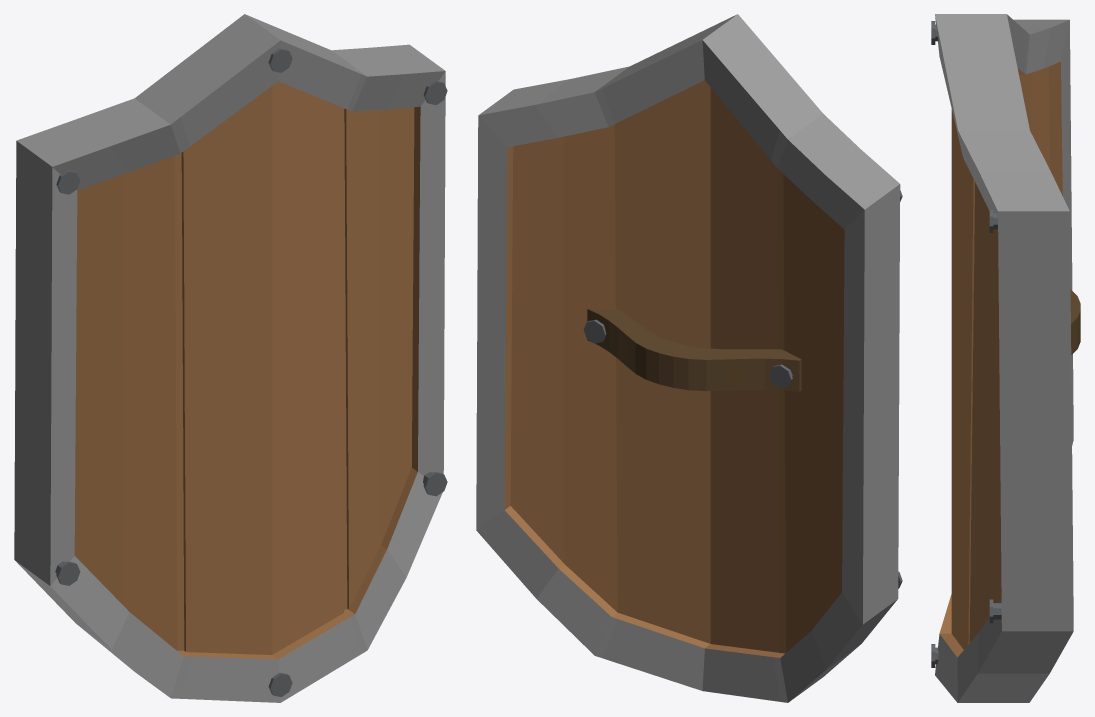
The model's file is shield_96e4033e.glb.
3 renders of one model, left to right at view 1: azimuth 30°, elevation 25°; view 2: azimuth 150°, elevation 25°; view 3: azimuth 270°, elevation 25°, orthographic.
Visible parts, largest first — view 1: Cube; view 2: Cube, Cube.001; view 3: Cube, Cube.001, Cylinder.004.
Part boxes in pixels (x1,y1,x2,y2): Cube: (14, 14, 445, 702); Cube: (476, 14, 900, 702); Cube.001: (587, 308, 801, 391); Cube: (935, 14, 1073, 702); Cube.001: (1070, 289, 1080, 354); Cylinder.004: (989, 599, 1001, 623).
Size of the model in its own units: 2.29 by 3.69 by 0.7542.
